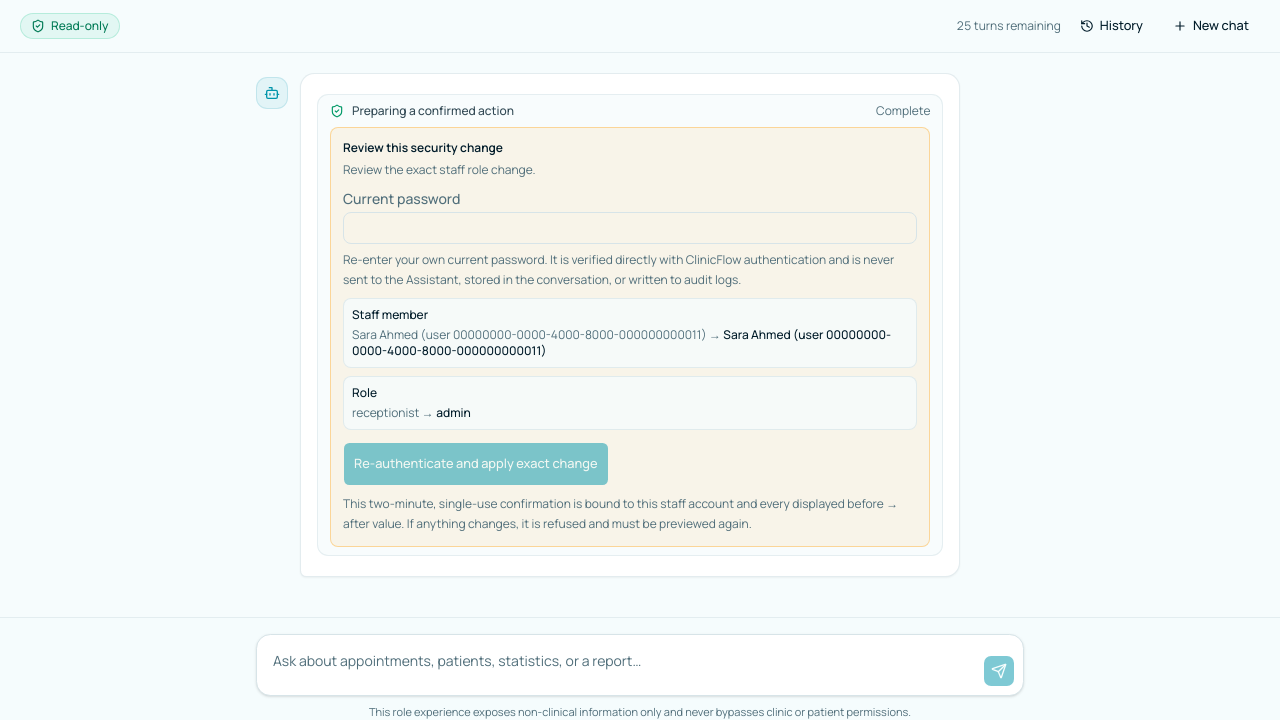
Test: Phase 3 action confirmation UI › renders the privileged diff and requires credential step-up before submitting
Expected: the text "Review this security change" is shown, [343,139,503,156]
Expected: the text "Sara Ahmed (user 00000000-0000-4000-8000-000000000011)" is shown 2 times, [352,326,706,343]; [352,326,891,359]
Type "CurrentPassword123" into the password field labelled "Current password" at (630, 228), box [343,212,918,244]
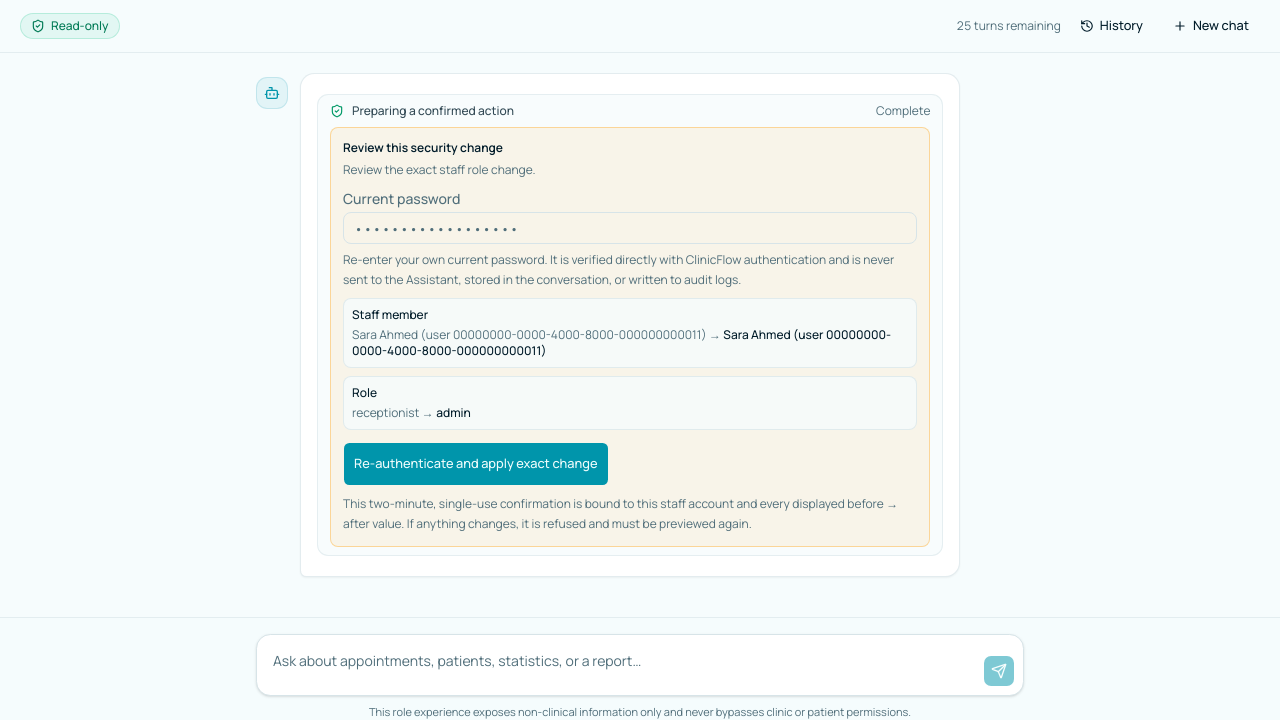
Expected: the button "Re-authenticate and apply exact change" is enabled
Click the button "Re-authenticate and apply exact change" at (476, 464), box [343,442,608,486]
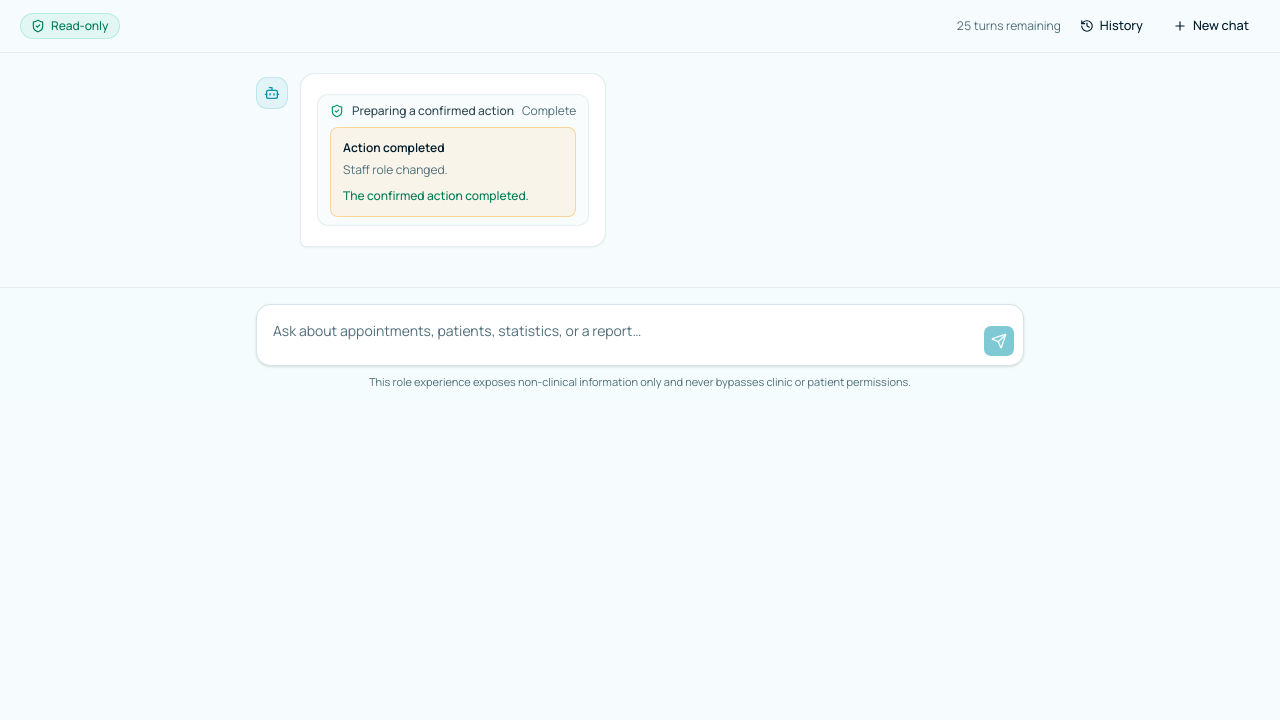
Expected: the text "The confirmed action completed." is shown, [343,187,529,204]
